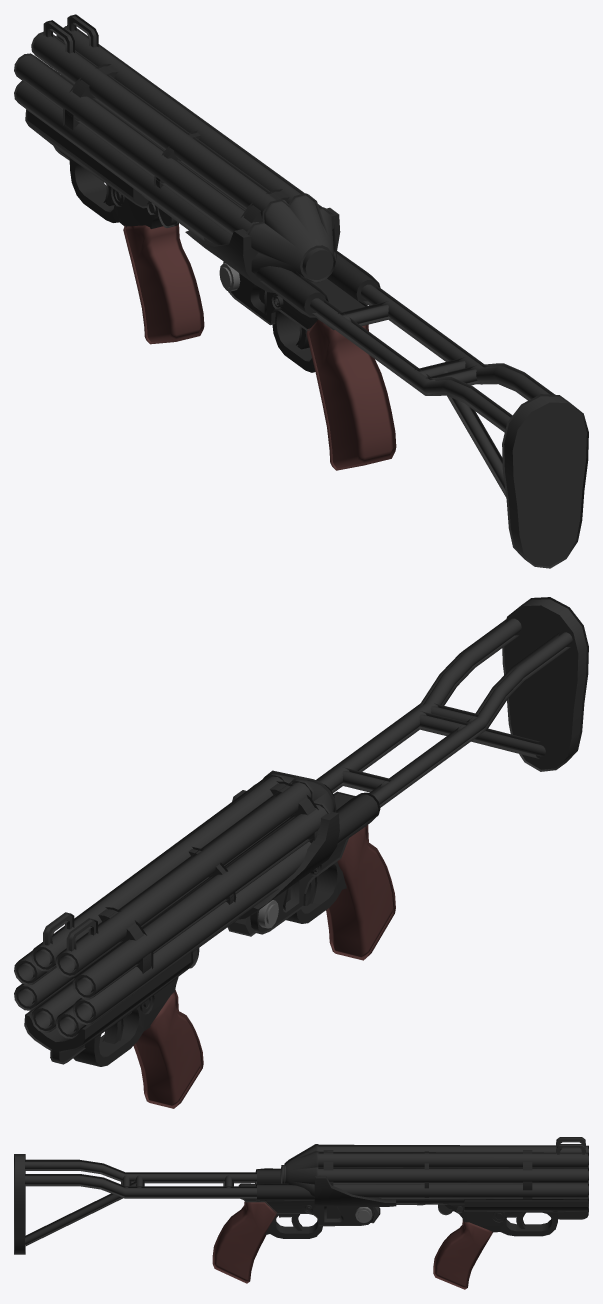
Rendered from Shotgun toon.fbx.
The picture shows the model from 3 angles, top to bottom: view 1: azimuth 30°, elevation 25°; view 2: azimuth 150°, elevation 25°; view 3: azimuth 270°, elevation 25°; orthographic projection. The views are drawn at different scales.
Parts seen in each view (by area): view 1: pCube40; view 2: pCube40; view 3: pCube40.
Boxes of the visible parts, left/top/right/bottom form: pCube40: left=14, top=14, right=588, bottom=568; pCube40: left=14, top=597, right=588, bottom=1108; pCube40: left=14, top=1137, right=588, bottom=1289.
Size of the model in its own units: 33.59 by 82.47 by 296.
